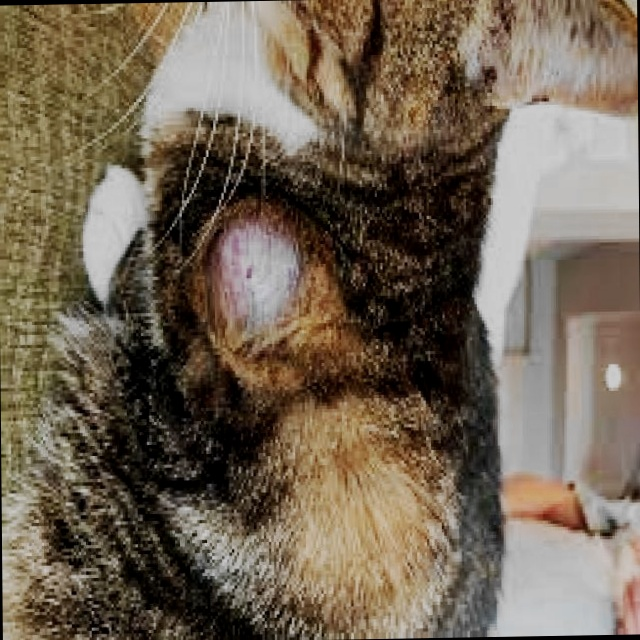lump_and_bump: (211, 211, 298, 332)
